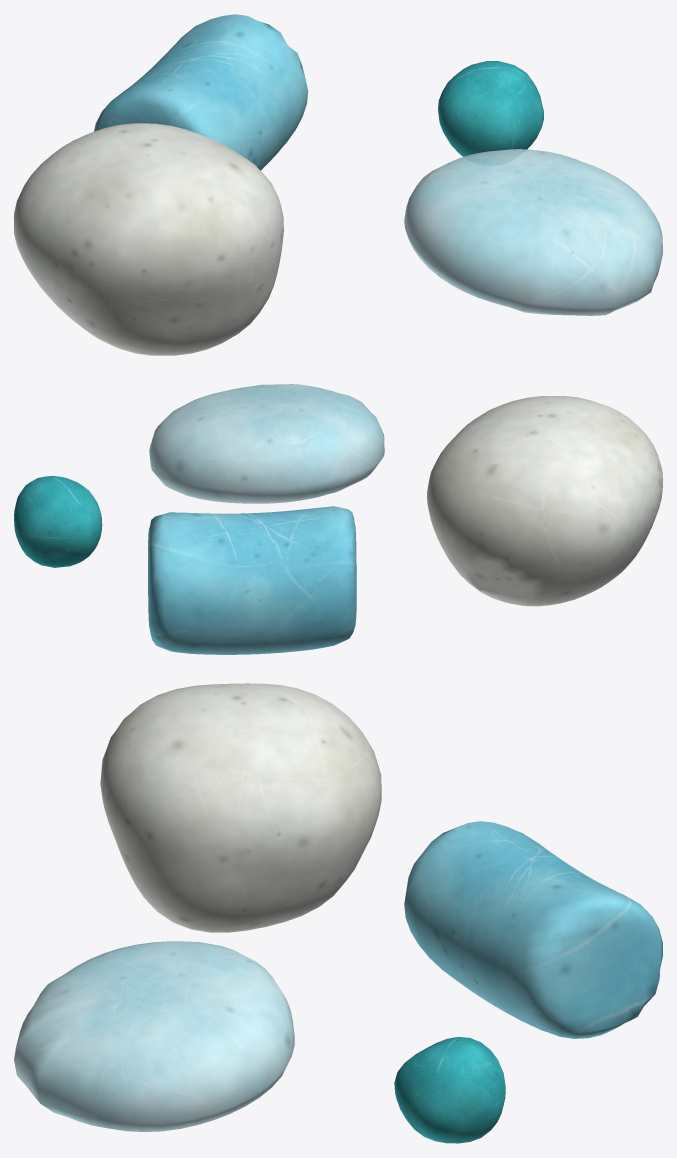
The model's file is pelet.glb.
3 views of the same model, one above another, from view 1: azimuth 30°, elevation 25°; view 2: azimuth 150°, elevation 25°; view 3: azimuth 270°, elevation 25° (orthographic). The views are drawn at different scales.
Visible parts, largest first — view 1: pelet; view 2: pelet; view 3: pelet.
Boxes of the visible parts, x1,y1,x2,y2 form: pelet: [14, 14, 662, 355]; pelet: [14, 384, 662, 654]; pelet: [14, 683, 662, 1143].
Bounding box in the file's own units: 0.2234 × 0.0712 × 0.1981.
4 materials, 4 textured.
